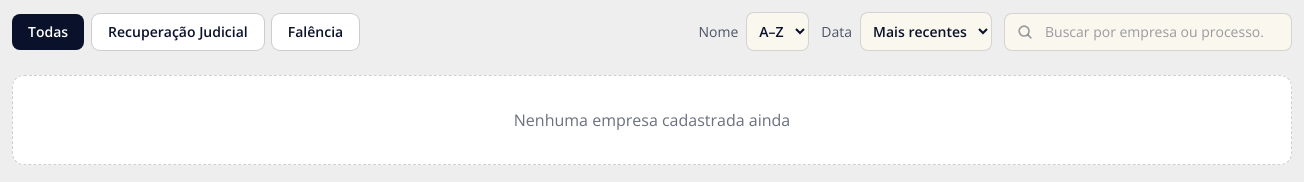
it: CompanyPanel › shows the short empty state per tab without search
The image size is (1304, 182).
Expected: the text "Nenhuma empresa cadastrada ainda" is shown, x1=12 y1=75 x2=1292 y2=165
Click the tab "Falência".
click(316, 32)  # box x1=272 y1=14 x2=359 y2=50
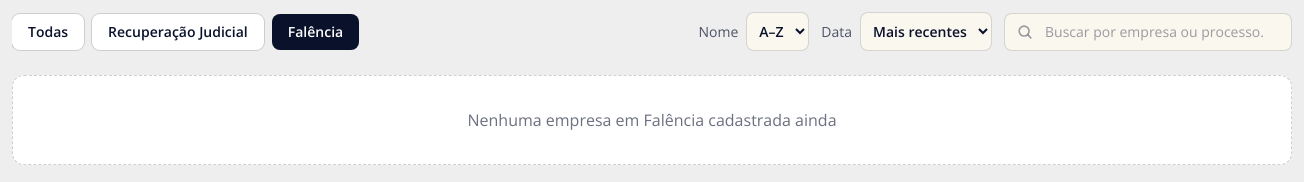
Expected: the text "Nenhuma empresa em Falência cadastrada ainda" is shown, x1=12 y1=75 x2=1292 y2=165
